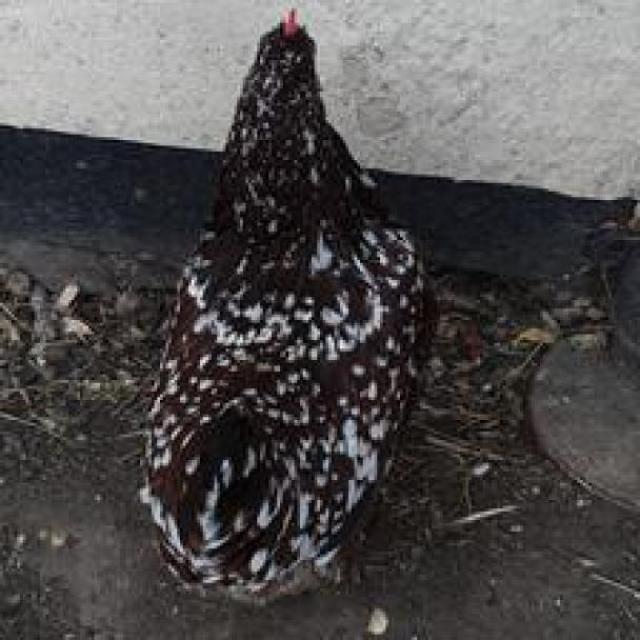Chicken: (179, 13, 435, 616)
